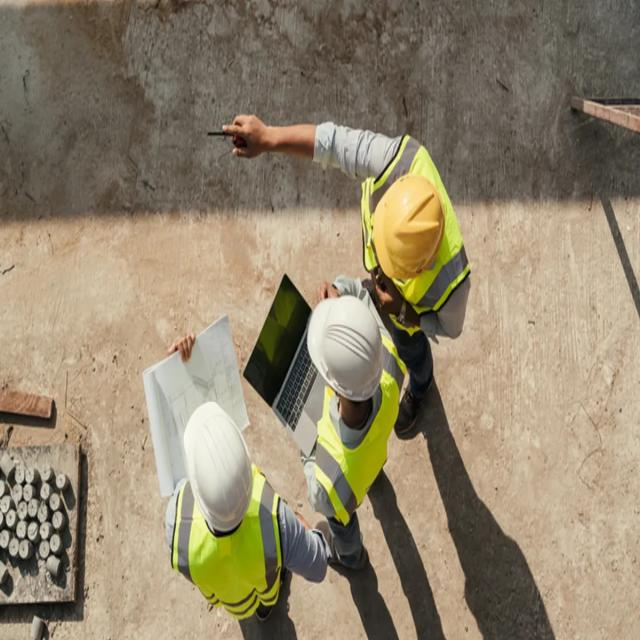Hard Hat: (181, 399, 254, 533), (371, 168, 448, 280), (310, 298, 386, 402)
Reflective Vest: (355, 126, 471, 313), (313, 329, 414, 534), (171, 466, 284, 616)
